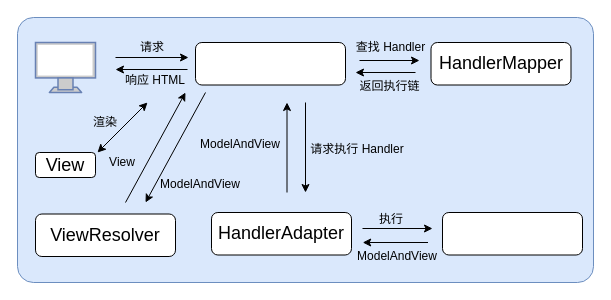
Image size: 611x300. Some labels were removed from this diagram. The centre of each missing label's shape, as x and y in pixels:
DispatcherServlet: pixel 270 63
Interceptor Controller: pixel 512 233
